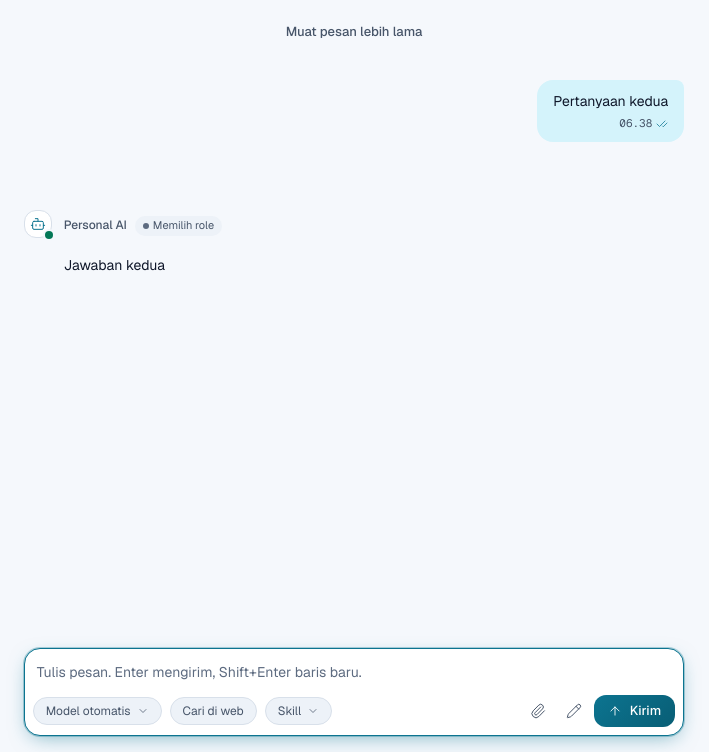
Scenario: ChatScreen: memuat riwayat › urutan waktu: isi halaman sudah kronologis, halaman lama (before) ditaruh di atas
Expected: the text "Jawaban kedua" is shown, [64,256,165,274]
What coordinates should you click on to do the following:
click the button "Muat pesan lebih lama"
I would click on:
 (354, 32)
Its box is [272,16,436,48].
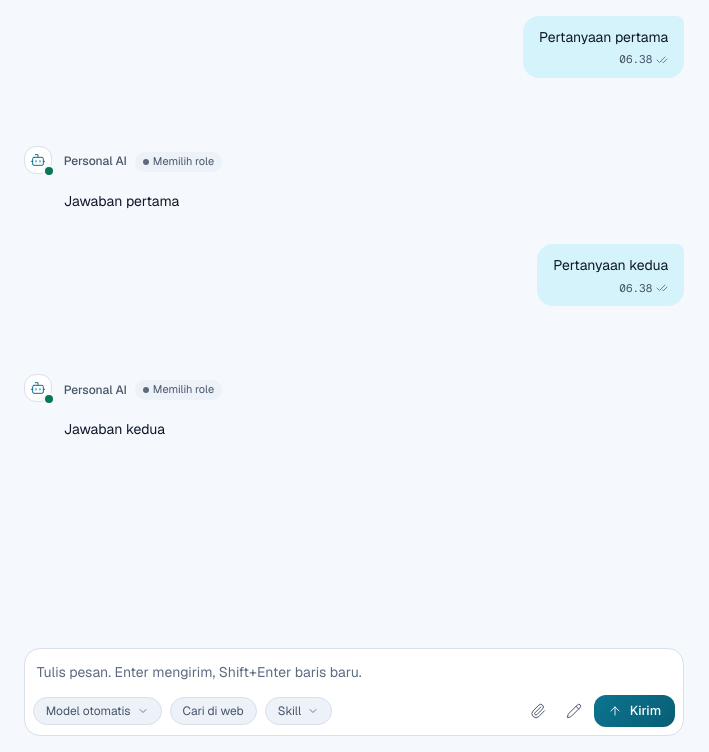
Result: the text "Jawaban pertama" is shown at [64,192,179,210]
